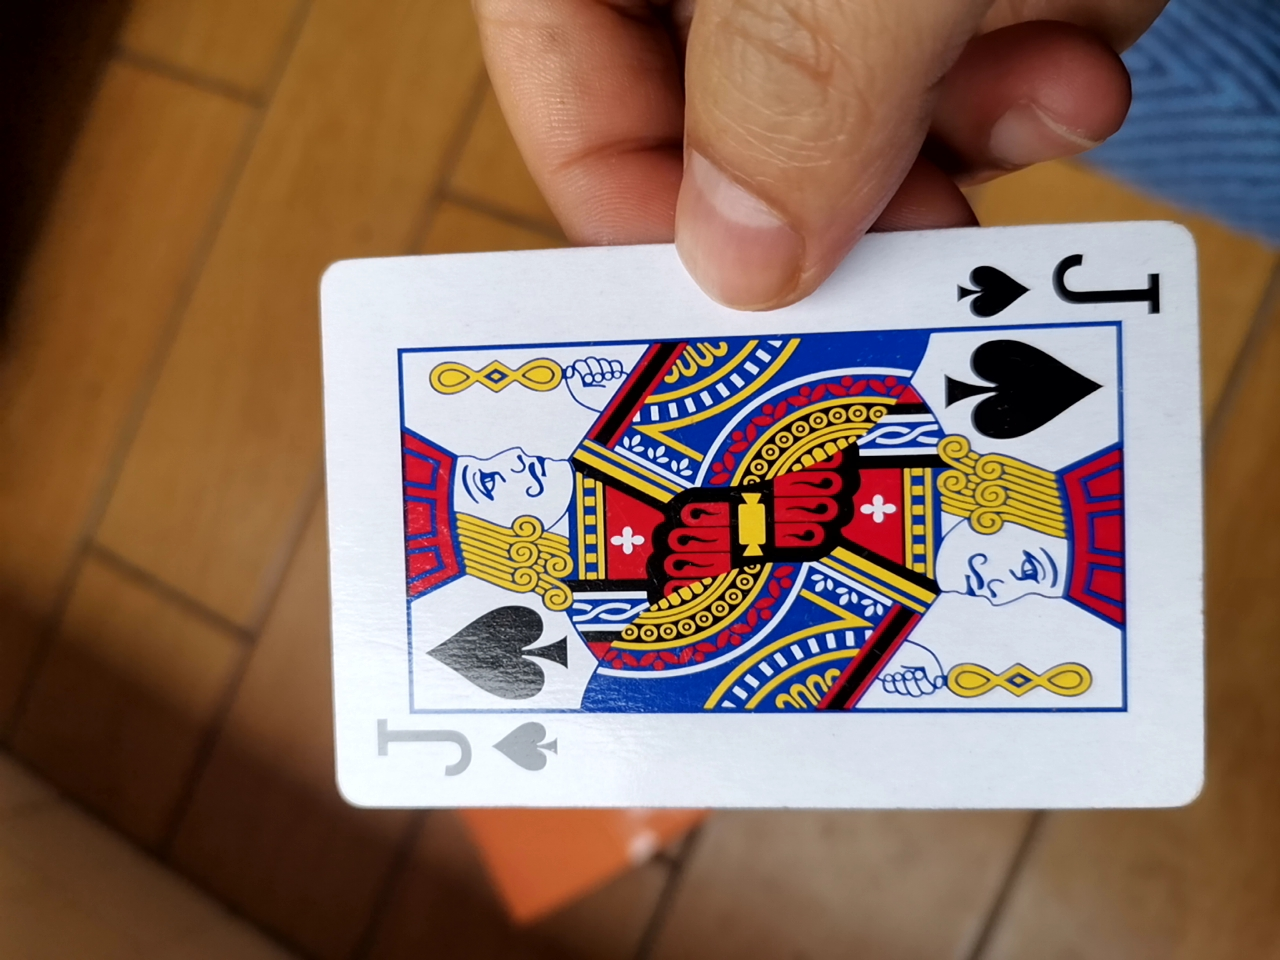ht j: (289, 222, 1194, 811)
